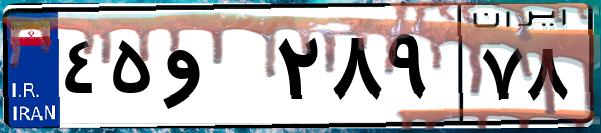2: (270, 28, 330, 110)
4: (57, 26, 110, 100)
5: (110, 28, 158, 98)
7: (475, 38, 525, 113)
8: (330, 28, 385, 110), (525, 38, 570, 115)
9: (385, 28, 445, 110)
و: (158, 20, 270, 120)
